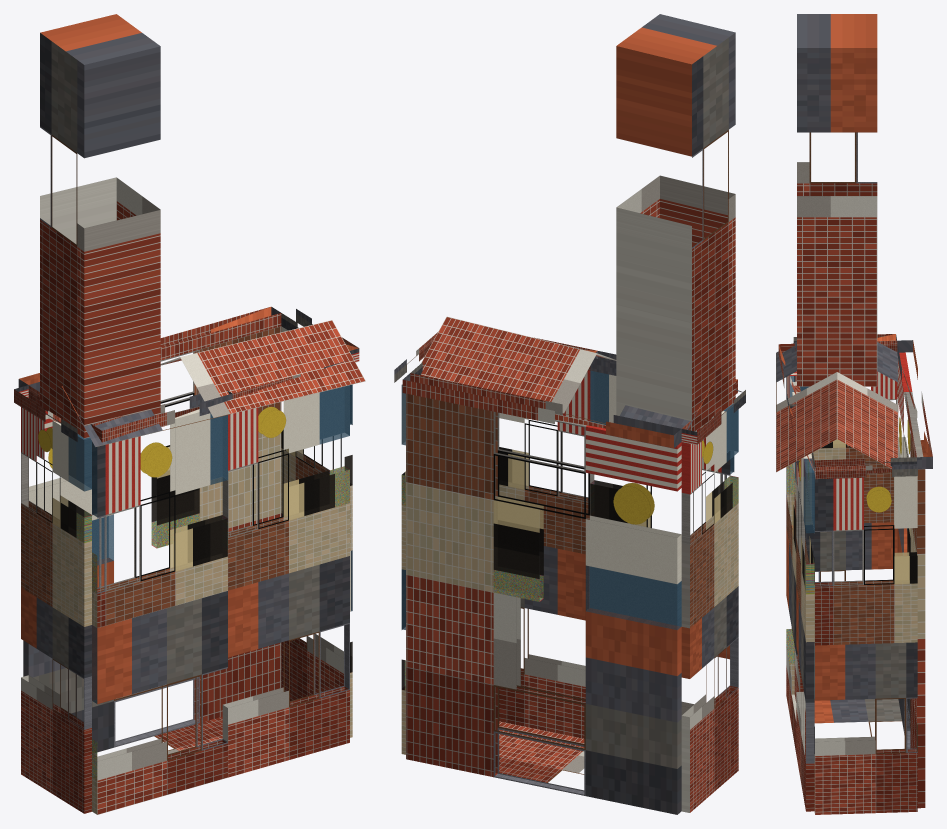
3 views of the same model, side by side, from view 1: azimuth 30°, elevation 25°; view 2: azimuth 150°, elevation 25°; view 3: azimuth 270°, elevation 25° (orthographic). The views are drawn at different scales.
Parts seen in each view (by area): view 1: 361992698__chimney_0_xb, 361992698__wall_4_xb, 361992698__wall_3_xb, 361992698__wall_0_xb, 361992698__wall_1_xb, 361992698_roof_-1_xb, 361992698__wall_2_xb, 361992698__wall_4_xf, 361992698__wall_3_xf, 361992698__cornice_1, 361992698__wall_1_xf, 361992698__wall_0_xf (+3 smaller); view 2: 361992698__wall_1_xb, 361992698__chimney_0_xb, 361992698__wall_0_xb, 361992698__wall_3_xb, 361992698_roof_1_xb, 361992698__wall_1_xf, 361992698__cornice_1, 361992698__base, 361992698__wall_4_xb, 361992698__wall_4_xf, 361992698__wall_0_xf, 361992698__wall_2_xb (+3 smaller); view 3: 361992698__chimney_0_xb, 361992698__wall_2_xb, 361992698__wall_0_xb, 361992698__wall_3_xb, 361992698__wall_1_xb, 361992698_roof_1_xb, 361992698_roof_-1_xb, 361992698__wall_4_xb, 361992698__base, 361992698__cornice_2, 361992698__wall_3_xf, 361992698__cornice_1 (+3 smaller).
Boxes of the visible parts, x1,y1,x2,y2 form: 361992698__chimney_0_xb: (40, 14, 160, 438); 361992698__wall_4_xb: (92, 409, 227, 814); 361992698__wall_3_xb: (222, 385, 349, 777); 361992698__wall_0_xb: (21, 407, 91, 813); 361992698__wall_1_xb: (23, 326, 281, 752); 361992698_roof_-1_xb: (62, 320, 365, 446); 361992698__wall_2_xb: (281, 326, 352, 737); 361992698__wall_4_xf: (92, 414, 227, 779); 361992698__wall_3_xf: (284, 385, 349, 519); 361992698__cornice_1: (18, 306, 281, 391); 361992698__wall_1_xf: (92, 447, 199, 564); 361992698__wall_0_xf: (52, 434, 91, 542); 361992698__wall_1_xb: (406, 393, 681, 814); 361992698__chimney_0_xb: (616, 14, 735, 431); 361992698__wall_0_xb: (681, 404, 738, 812); 361992698__wall_3_xb: (498, 370, 594, 738); 361992698_roof_1_xb: (421, 316, 713, 429); 361992698__wall_1_xf: (494, 497, 681, 629); 361992698__cornice_1: (402, 373, 681, 448); 361992698__base: (499, 721, 584, 782); 361992698__wall_4_xb: (590, 371, 734, 714); 361992698__wall_4_xf: (590, 371, 733, 527); 361992698__wall_0_xf: (706, 404, 738, 522); 361992698__wall_2_xb: (401, 384, 405, 754); 361992698__chimney_0_xb: (797, 14, 877, 386); 361992698__wall_2_xb: (814, 474, 917, 814); 361992698__wall_0_xb: (794, 371, 897, 691); 361992698__wall_3_xb: (796, 453, 814, 811); 361992698__wall_1_xb: (897, 352, 925, 808); 361992698_roof_1_xb: (837, 342, 898, 468); 361992698_roof_-1_xb: (776, 341, 837, 472); 361992698__wall_4_xb: (786, 371, 802, 753); 361992698__base: (814, 699, 902, 736); 361992698__cornice_2: (814, 457, 917, 479); 361992698__wall_3_xf: (801, 459, 814, 593); 361992698__cornice_1: (897, 340, 932, 469).
Bounding box in the file's own units: 0.5903 × 1.4 × 0.2935.
Materials: 1 (1 with a texture image).
